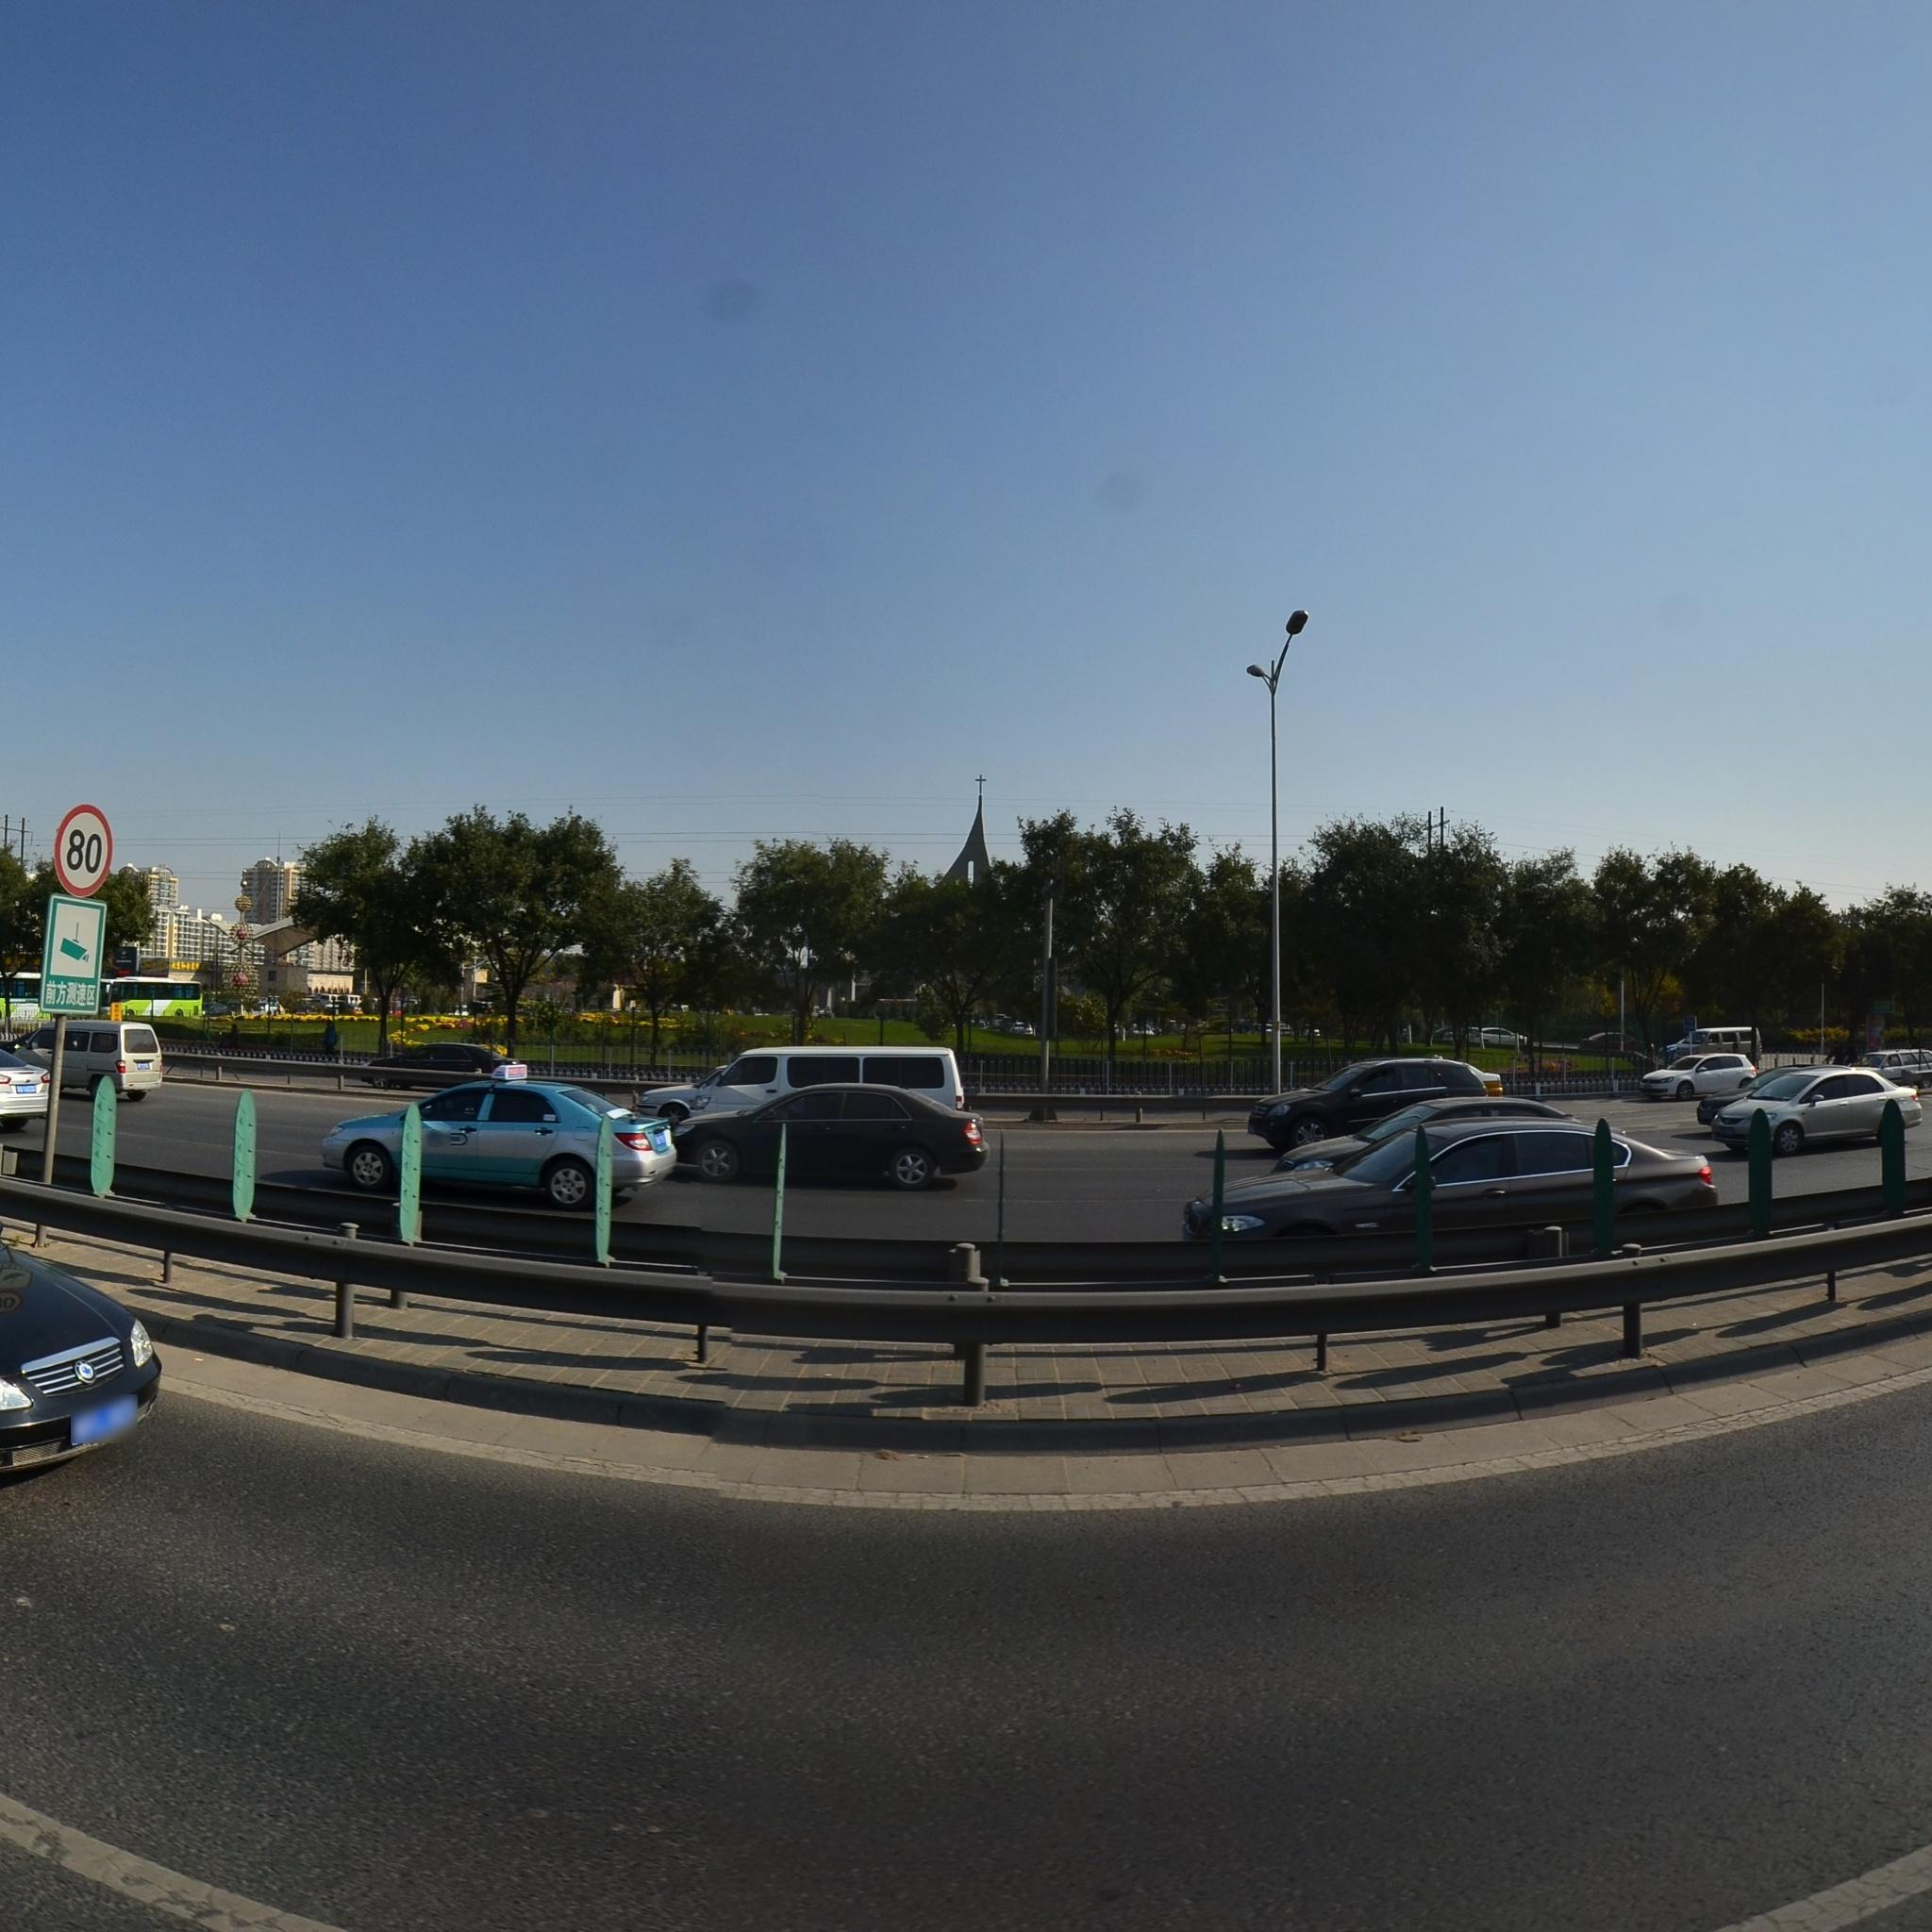pl80: (53, 803, 111, 899)
